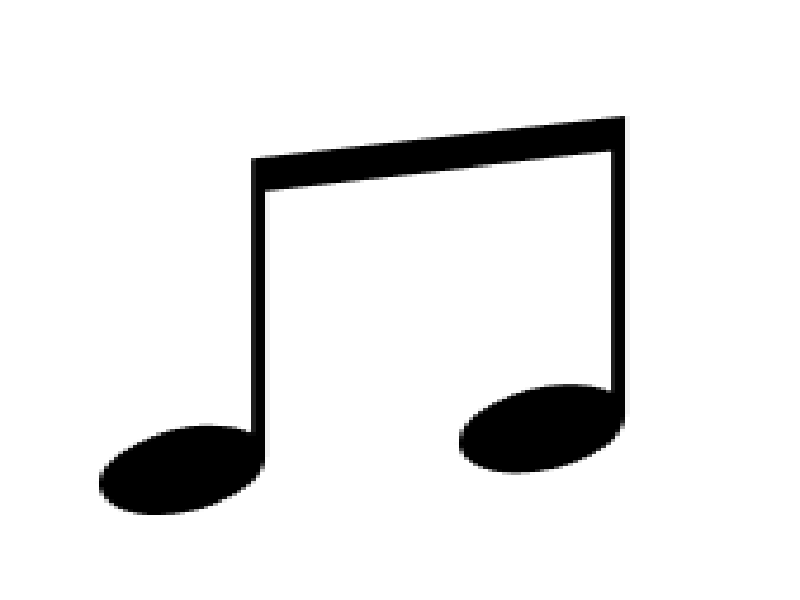C: (97, 131, 409, 522), (411, 112, 664, 491)
